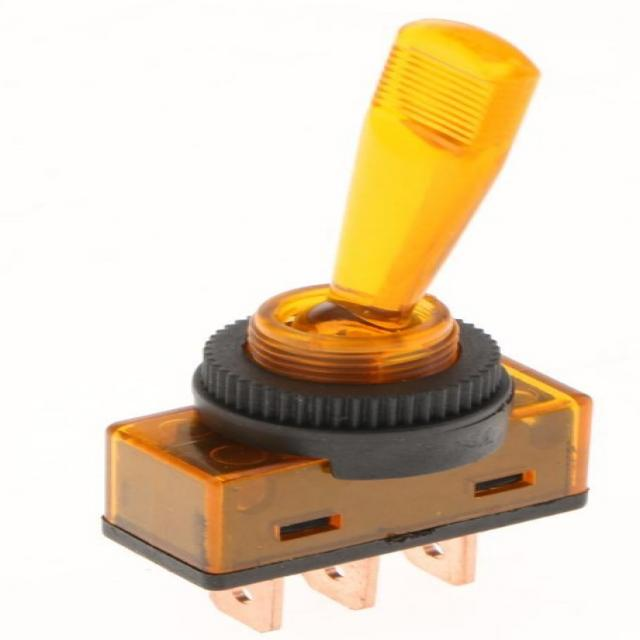toggle switch: (192, 16, 545, 435)
